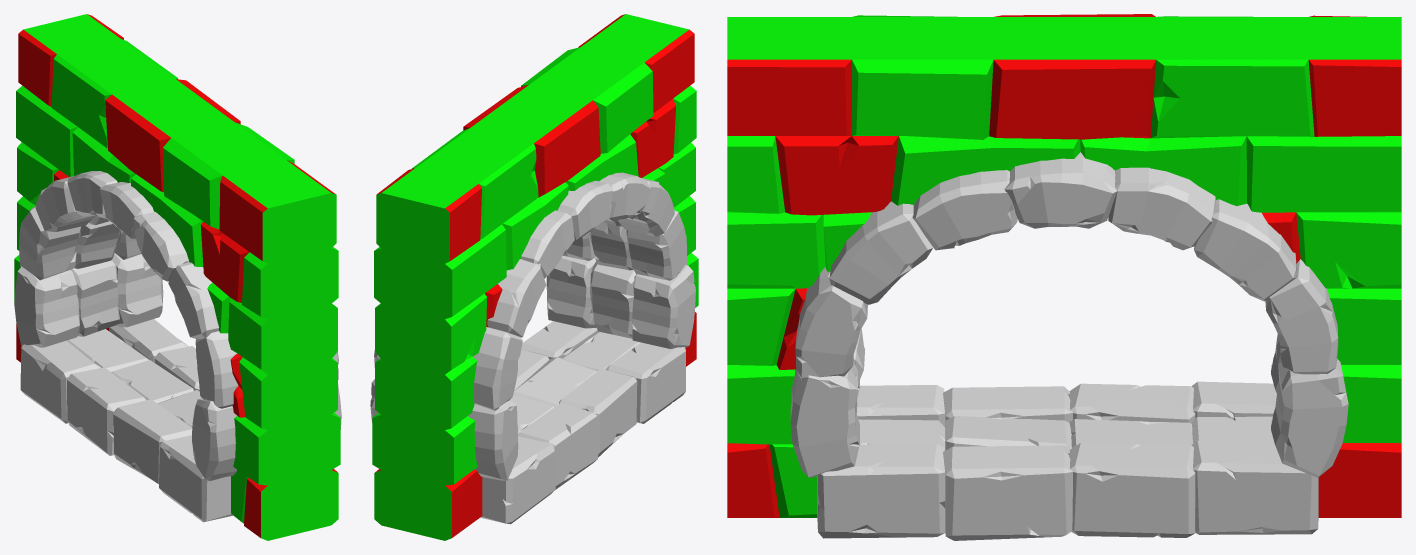
Rendered from SM_Wall_1_2_2.fbx.
3 renders of one model, left to right at view 1: azimuth 30°, elevation 25°; view 2: azimuth 150°, elevation 25°; view 3: azimuth 270°, elevation 25°, orthographic. The views are drawn at different scales.
Parts seen in each view (by area): view 1: Mesh; view 2: Mesh; view 3: Mesh.
Part boxes in pixels (x1=…): Mesh: x1=14, y1=14, x2=341, y2=540; Mesh: x1=370, y1=14, x2=698, y2=540; Mesh: x1=727, y1=14, x2=1401, y2=540.
Size of the model in its own units: 129 by 300 by 400.
